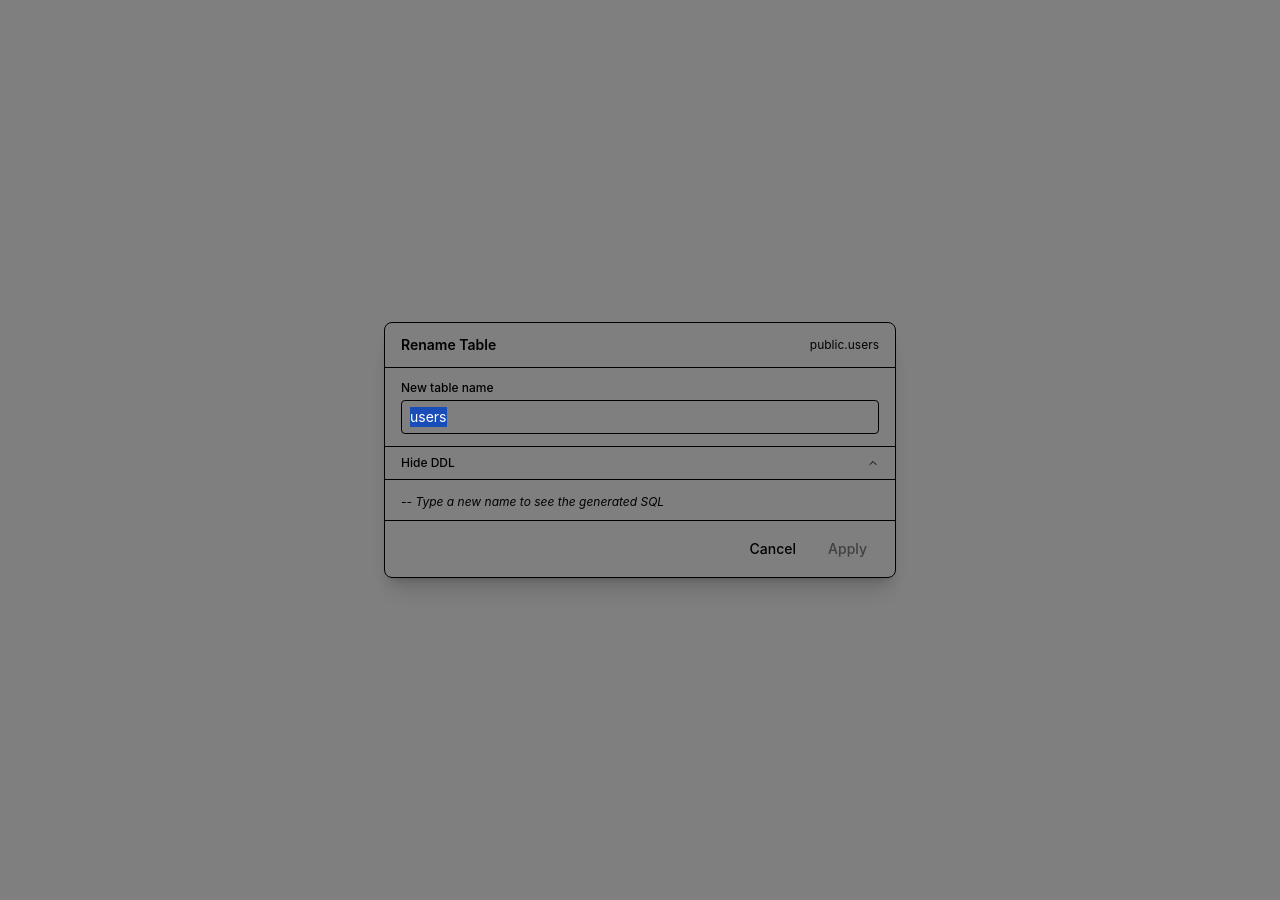
RenameTableDialog (Sprint 235) › error branches + Enter-key submit (issue #1630) › commit reject surfaces inline alert + keeps modal open
Replace the text in the field labelled "New table name" with "people" at (640, 417), box [401,400,879,434]
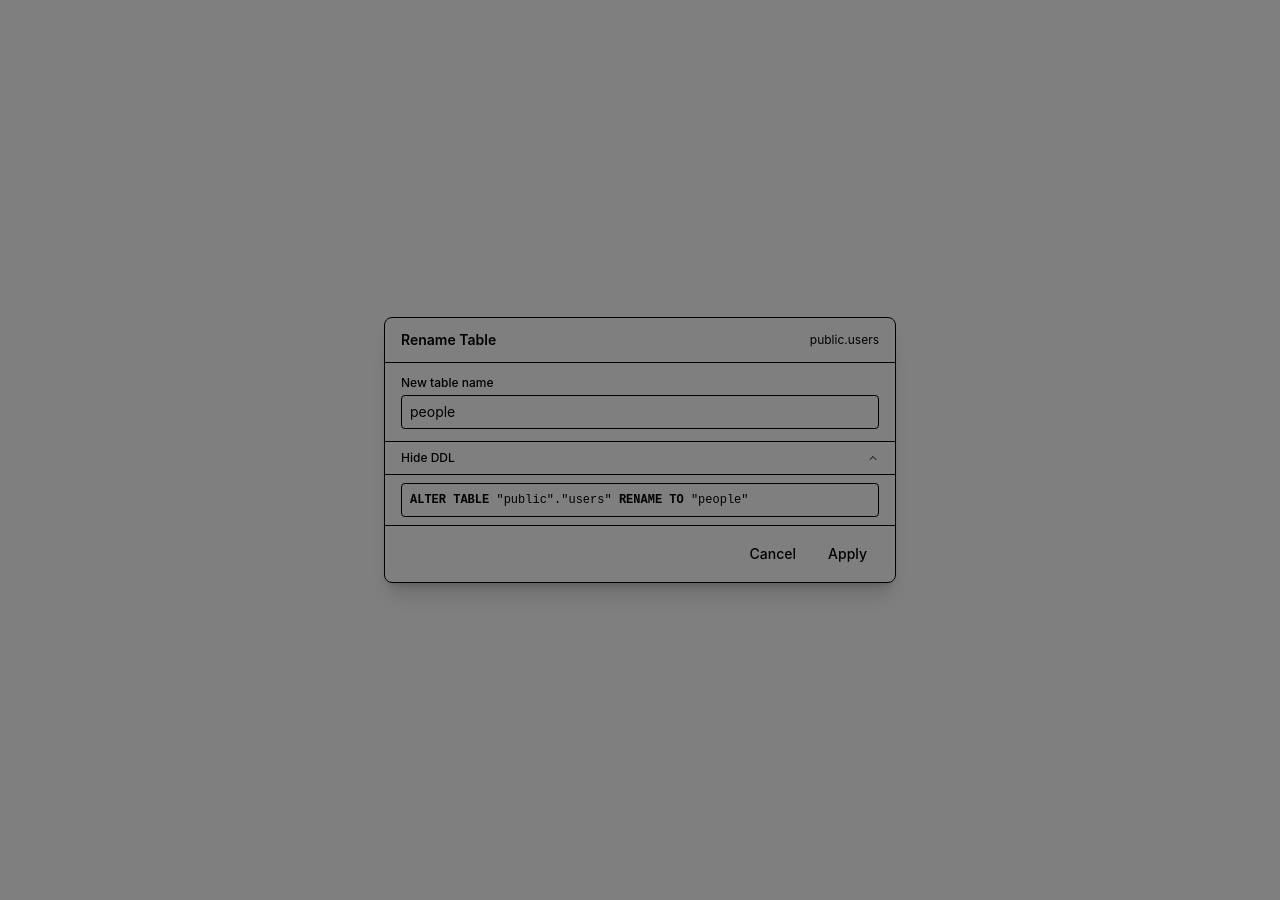
Check: the button "Apply" is enabled
Click the button "Apply" at (848, 554), box [816,538,879,570]
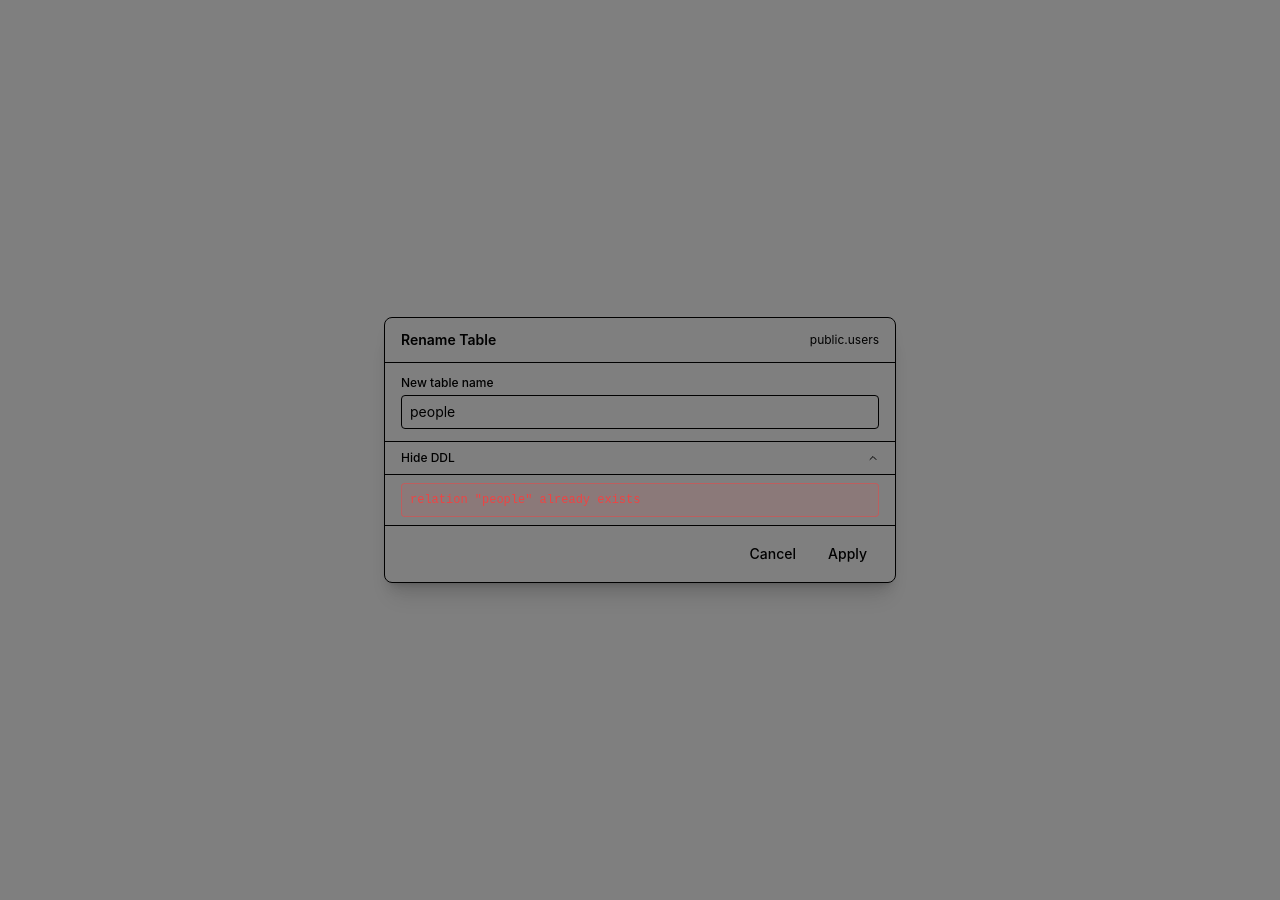
Check: the message shows "already exists", box [410,493,640,507]
